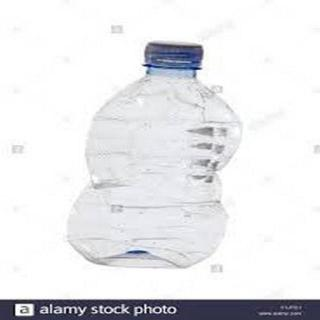Plastic-bottle: (66, 40, 244, 270)
